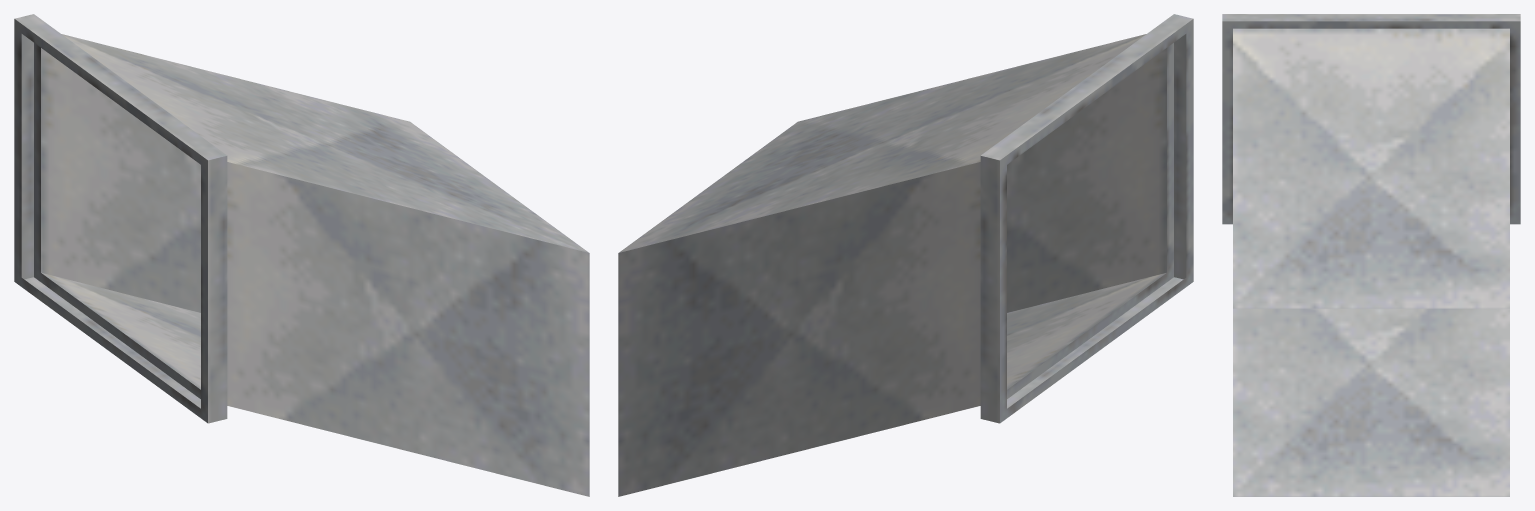
Rendered from duct_uprise_0.5.fbx.
The picture shows the model from 3 angles, left to right: view 1: azimuth 30°, elevation 25°; view 2: azimuth 150°, elevation 25°; view 3: azimuth 270°, elevation 25°; orthographic projection. The views are drawn at different scales.
Visible parts, largest first — view 1: Cube; view 2: Cube; view 3: Cube.
Boxes of the visible parts, <box> form: Cube: <box>14,14,589,496</box>; Cube: <box>618,14,1193,496</box>; Cube: <box>1222,14,1520,496</box>.
Bounding box in the file's own units: 200 × 215 × 173.
